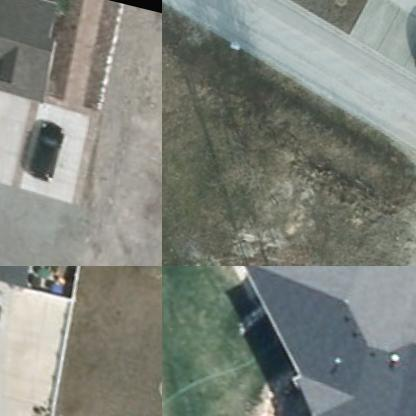car: (14, 118, 70, 186), (406, 28, 415, 77)
